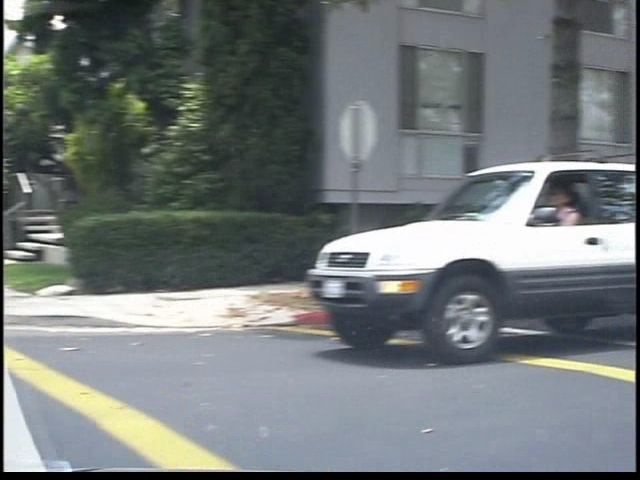person: (553, 174, 602, 343)
